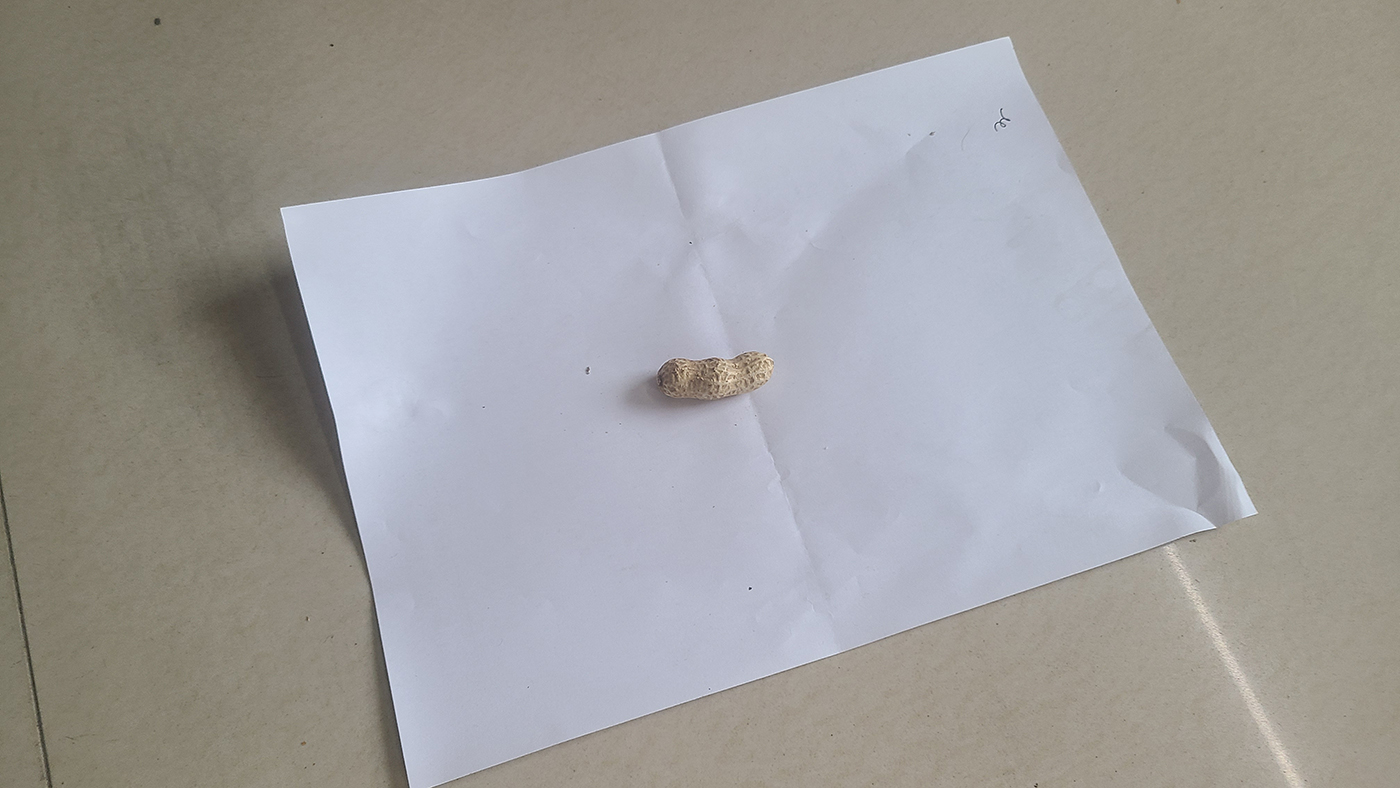h: (656, 350, 775, 400)
